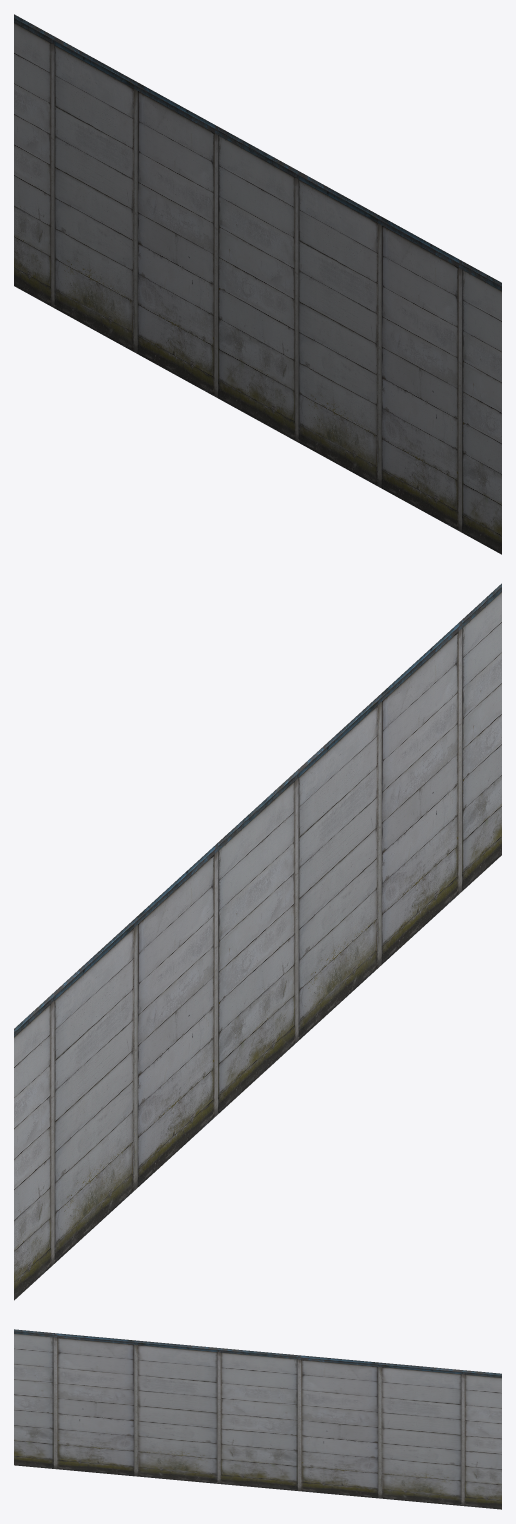
Rendered from Outer_Fence_Angle_Mobile.fbx.
The picture shows the model from 3 angles, top to bottom: view 1: azimuth 30°, elevation 25°; view 2: azimuth 150°, elevation 25°; view 3: azimuth 270°, elevation 25°; orthographic projection. The views are drawn at different scales.
Visible parts, largest first — view 1: Outer_Fence_Angle_Mobile; view 2: Outer_Fence_Angle_Mobile; view 3: Outer_Fence_Angle_Mobile.
Part boxes in pixels (<box>): Outer_Fence_Angle_Mobile: <box>14,14,501,554</box>; Outer_Fence_Angle_Mobile: <box>14,583,501,1300</box>; Outer_Fence_Angle_Mobile: <box>14,1329,501,1509</box>.
Size of the model in its own units: 1.43e-16 by 8.15 by 20.
